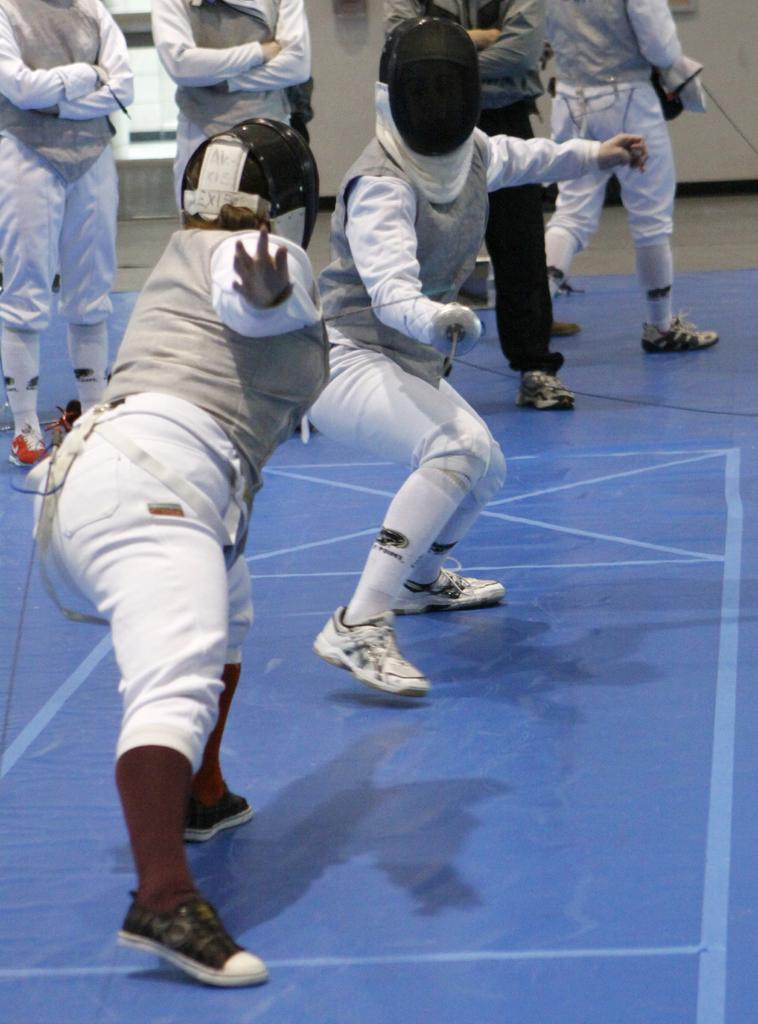knife: (688, 75, 755, 157), (427, 304, 485, 375)
non-violence: (384, 1, 579, 412), (1, 1, 132, 474), (544, 1, 716, 358), (152, 3, 320, 229)
violence: (33, 21, 650, 992)
